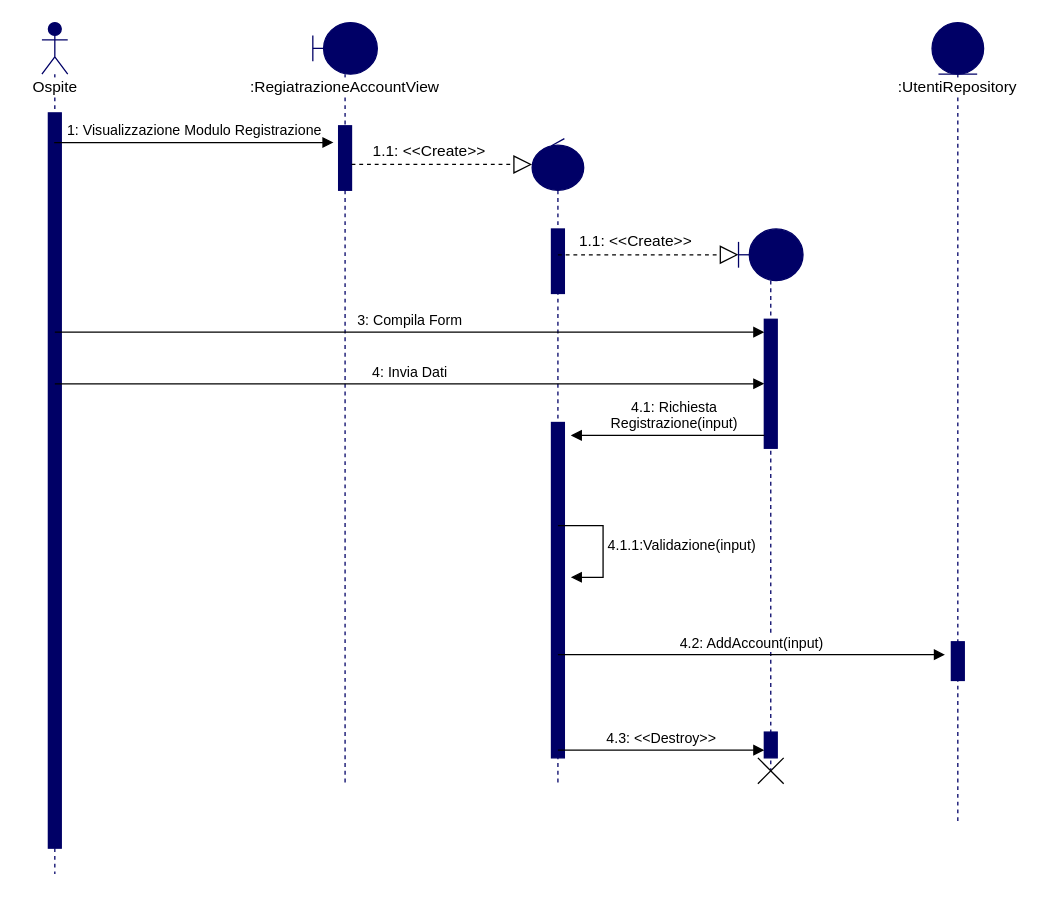
This 1038x897 diagram has some shape labels left out. The box of each missing label's shape, as (x1, y1, x2, y2) in pixels:
:RegistrazioneAccountControl: (531, 137, 584, 784)
:RegistrazionForm: (737, 228, 803, 771)
